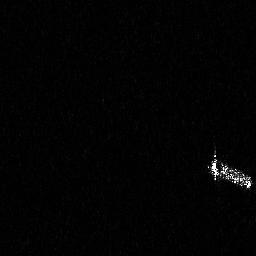ship: (204, 145, 255, 193)
